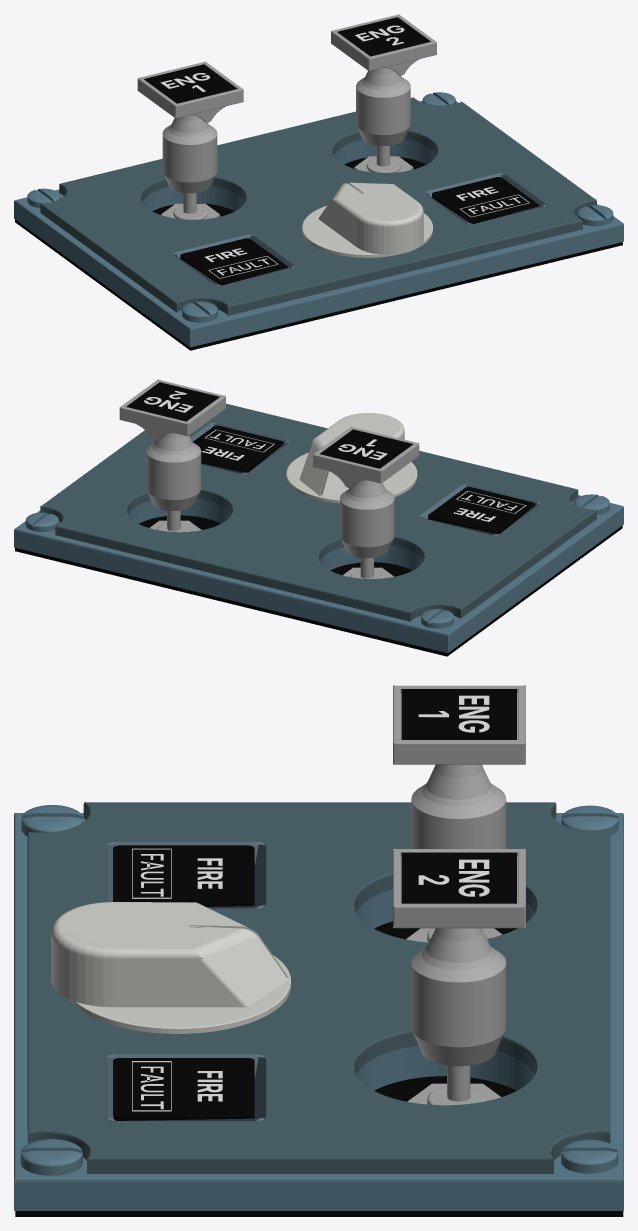
The model's file is eng_start_panel.glb.
The picture shows the model from 3 angles, top to bottom: view 1: azimuth 30°, elevation 25°; view 2: azimuth 150°, elevation 25°; view 3: azimuth 270°, elevation 25°; orthographic projection. The views are drawn at different scales.
Visible parts, largest first — view 1: Plane, Plane.001, Cube.003, Cylinder, Cylinder.003, Cube, Cube.004, Plane.004, eng1 ag1.001, eng1 ag1.002, Cube.021, Cube.001 (+5 smaller); view 2: Plane, Plane.001, Cube.003, Cylinder.003, Cylinder, Cube, Cube.004, Plane.004, eng1 ag1.001, eng1 ag1.002, Cube.021, Cube.001 (+5 smaller); view 3: Plane, Plane.001, Cube.003, Cylinder.003, Cube, Cube.004, Cylinder, eng1 ag1.002, eng1 ag1.001, Plane.004, Cube.001, Cube.021 (+8 smaller).
Boxes of the visible parts, bbox=[...] form: Plane: bbox=[40, 97, 596, 315]; Plane.001: bbox=[14, 101, 623, 347]; Cube.003: bbox=[302, 182, 432, 257]; Cylinder: bbox=[162, 115, 217, 213]; Cylinder.003: bbox=[356, 68, 410, 166]; Cube: bbox=[137, 61, 243, 122]; Cube.004: bbox=[331, 14, 437, 75]; Plane.004: bbox=[15, 157, 622, 350]; eng1 ag1.001: bbox=[187, 241, 281, 281]; eng1 ag1.002: bbox=[438, 180, 533, 219]; Cube.021: bbox=[180, 238, 287, 285]; Cube.001: bbox=[432, 177, 539, 224]; Plane: bbox=[40, 403, 596, 621]; Plane.001: bbox=[14, 495, 623, 653]; Cube.003: bbox=[286, 413, 417, 503]; Cylinder.003: bbox=[146, 433, 201, 531]; Cylinder: bbox=[340, 480, 394, 578]; Cube: bbox=[313, 426, 419, 487]; Cube.004: bbox=[119, 379, 225, 440]; Plane.004: bbox=[15, 515, 622, 656]; eng1 ag1.001: bbox=[435, 489, 529, 529]; eng1 ag1.002: bbox=[195, 427, 278, 467]; Cube.021: bbox=[428, 487, 535, 534]; Cube.001: bbox=[193, 425, 283, 472]; Plane: bbox=[27, 802, 610, 1173]; Plane.001: bbox=[14, 813, 623, 1210]; Cube.003: bbox=[51, 902, 290, 1033]; Cylinder.003: bbox=[411, 928, 506, 1101]; Cube: bbox=[393, 685, 525, 764]; Cube.004: bbox=[393, 848, 525, 928]; Cylinder: bbox=[411, 764, 506, 848]; eng1 ag1.002: bbox=[120, 1060, 243, 1113]; eng1 ag1.001: bbox=[120, 848, 243, 900]; Plane.004: bbox=[15, 921, 623, 1216]; Cube.001: bbox=[113, 1058, 254, 1120]; Cube.021: bbox=[113, 845, 254, 906].
Size of the model in its own units: 1.12 by 0.3505 by 0.7874.
